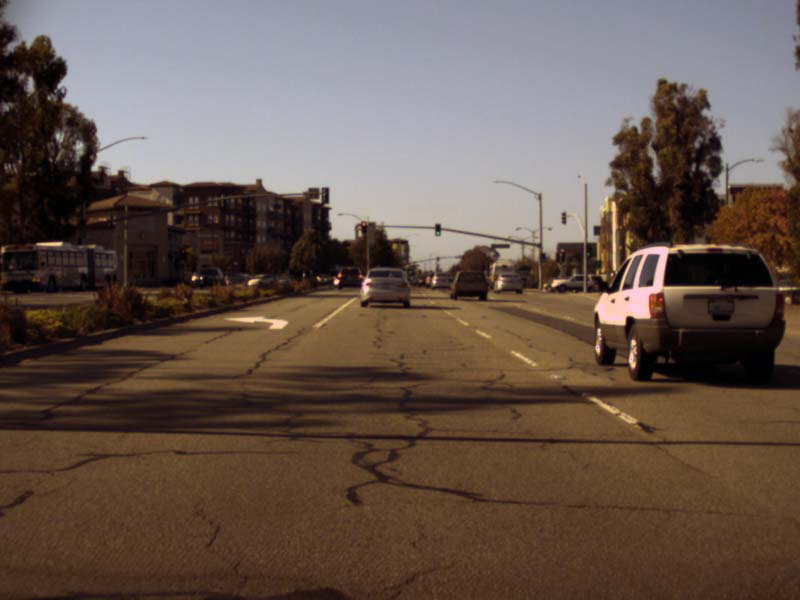Green: (585, 243, 590, 257), (435, 222, 440, 236), (540, 252, 545, 263)
Red: (179, 248, 186, 259), (361, 221, 366, 233)
